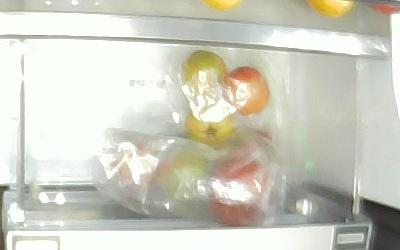tomato_vinyl: (211, 157, 262, 226), (159, 152, 209, 215), (224, 65, 270, 117), (184, 109, 236, 146), (184, 50, 226, 88)
